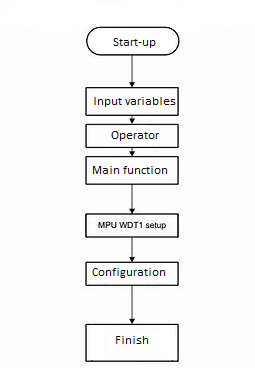arrow: (126, 284, 137, 324), (125, 54, 135, 89), (127, 234, 136, 261), (129, 182, 136, 215), (128, 113, 138, 125), (129, 147, 134, 156)
process: (82, 322, 181, 363), (82, 83, 179, 118), (81, 153, 179, 186), (82, 210, 179, 240), (82, 259, 179, 288), (82, 121, 179, 149)
terminator: (85, 25, 180, 57)
text: (90, 93, 175, 105), (89, 266, 167, 278), (95, 218, 166, 229), (89, 164, 167, 174), (110, 128, 161, 141), (111, 34, 159, 47), (112, 333, 149, 346)
